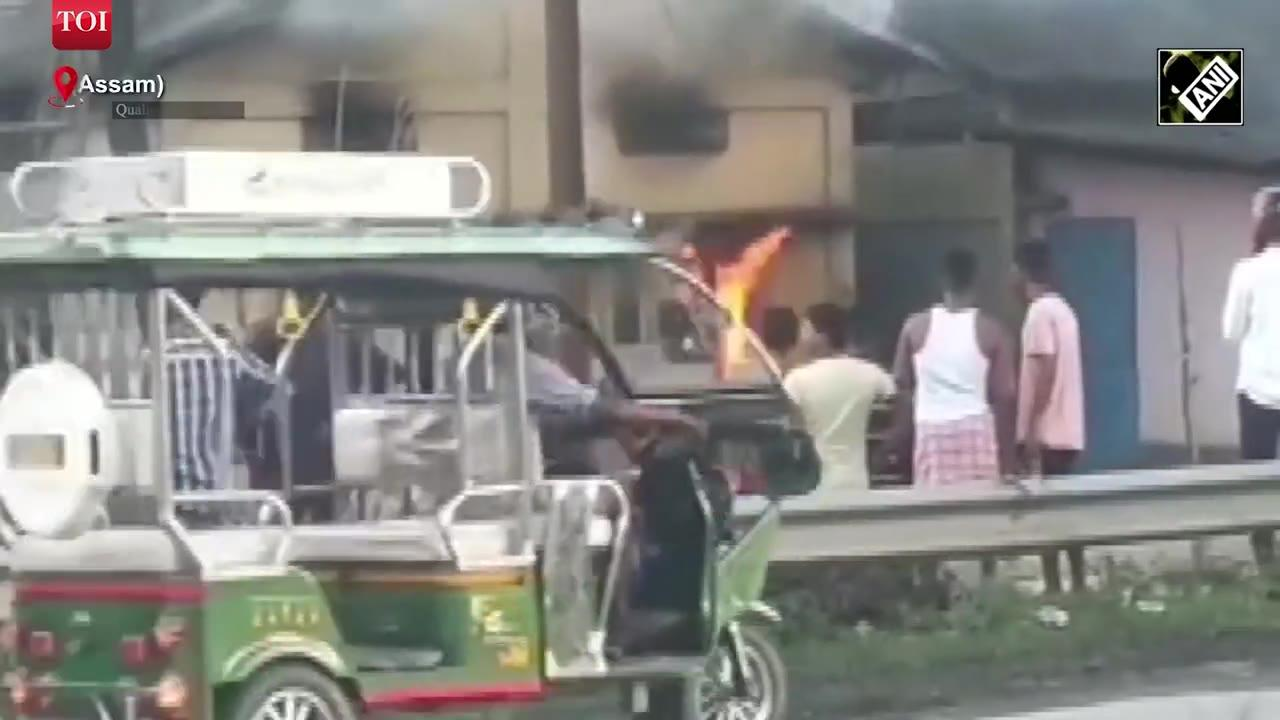fire: (694, 229, 806, 384)
smoke: (600, 7, 1150, 178)
